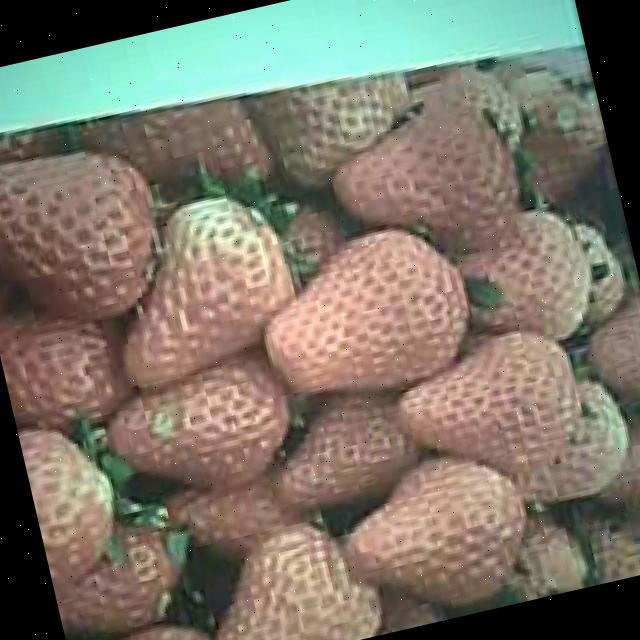strawberry: (246, 213, 484, 407), (96, 188, 298, 382), (327, 442, 540, 622), (0, 122, 172, 336), (388, 320, 590, 488)
